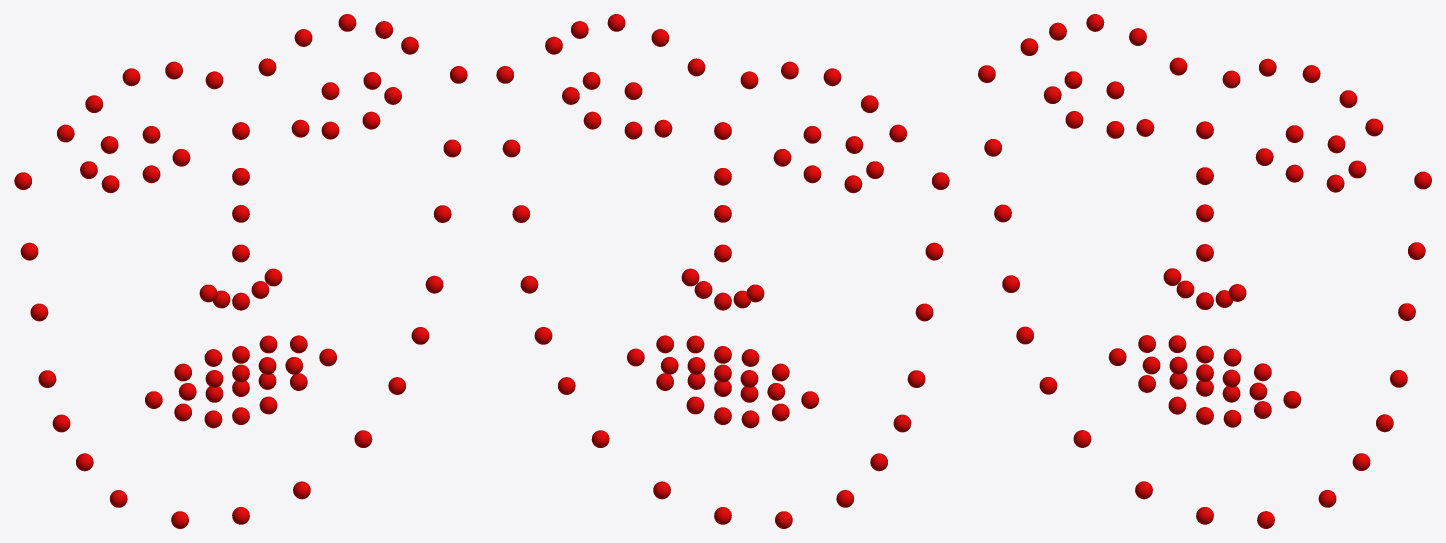
The model's file is morph_rest.fbx.
The picture shows the model from 3 angles, left to right: view 1: azimuth 30°, elevation 25°; view 2: azimuth 150°, elevation 25°; view 3: azimuth 330°, elevation 25°; orthographic projection.
Bounding box in the file's own units: 7.05 × 7.22 × 0.242.
